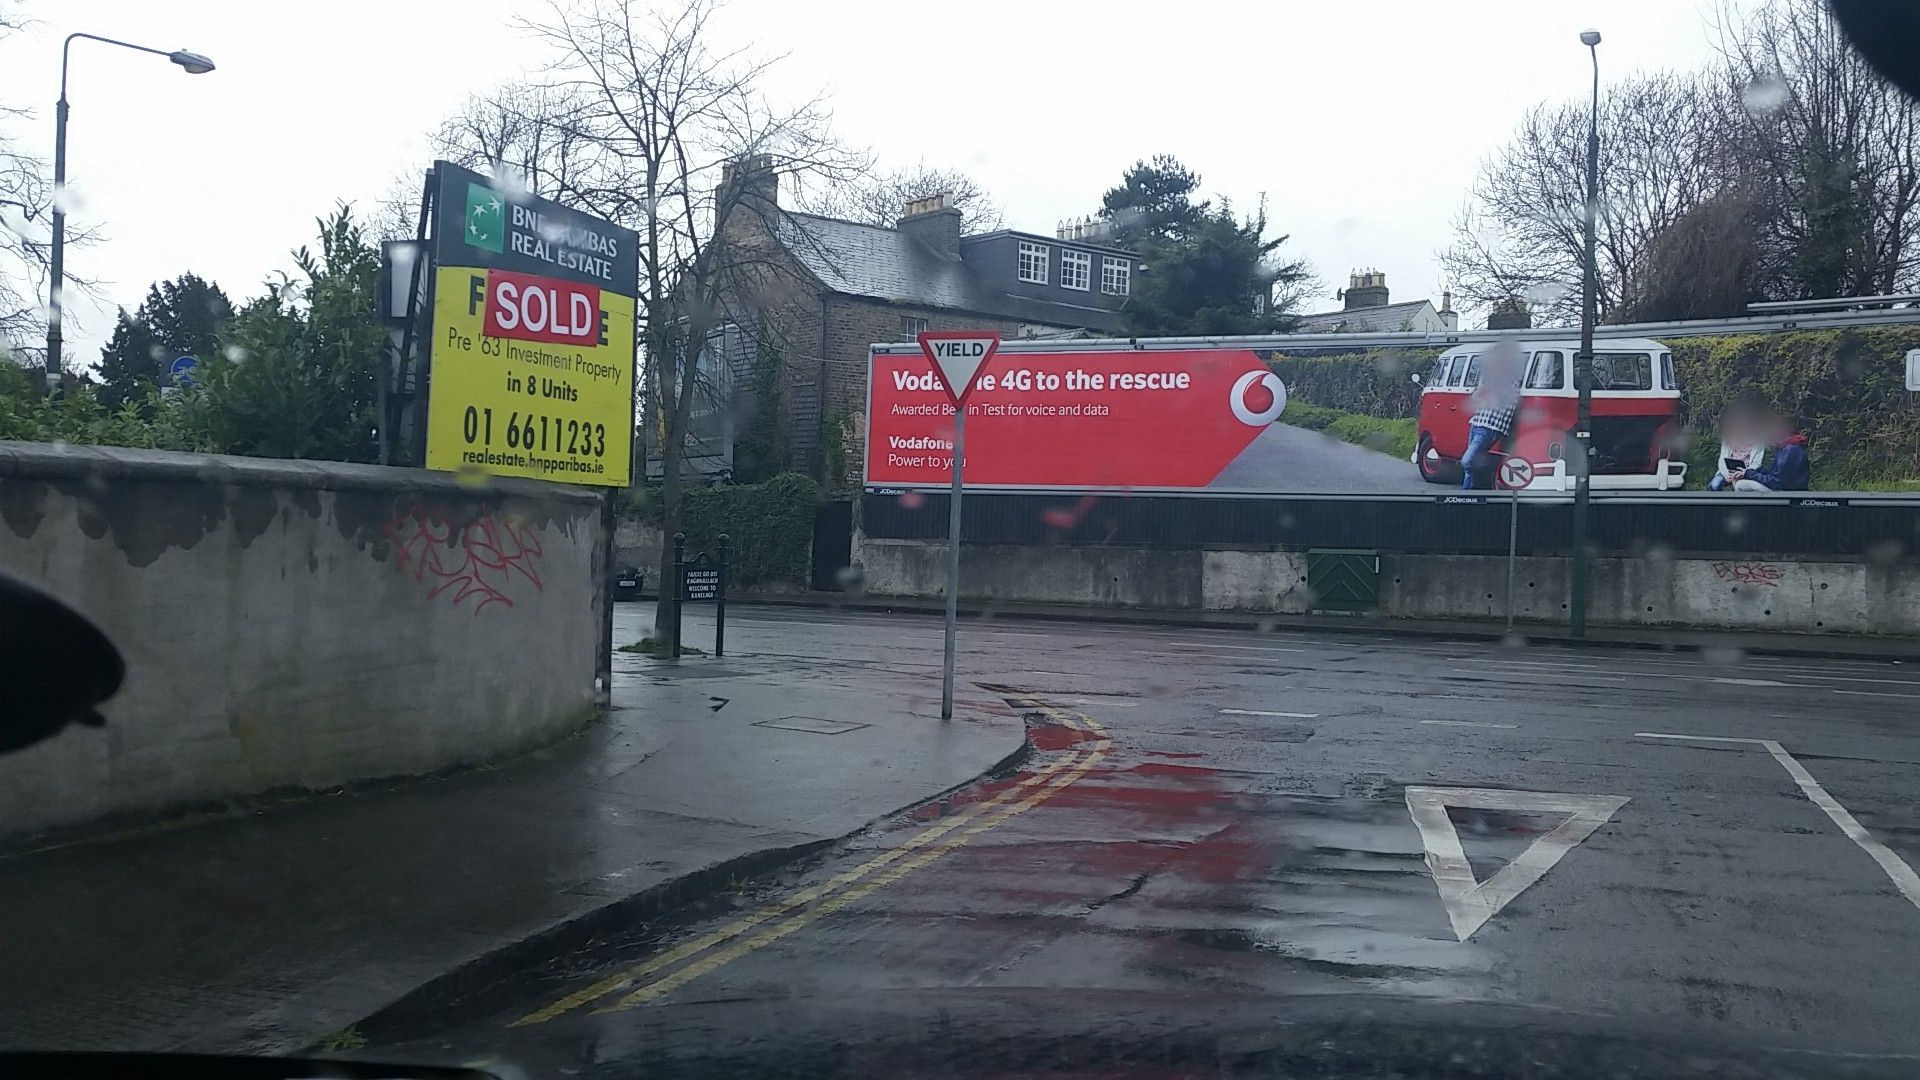property sign: (407, 157, 644, 516)
